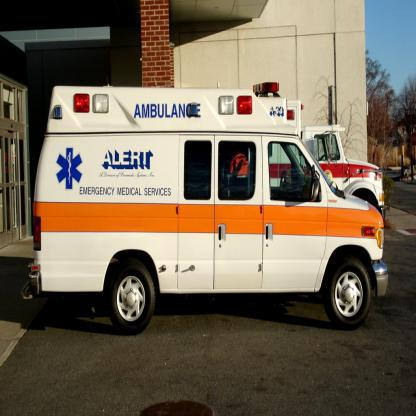bus: (21, 82, 390, 333)
